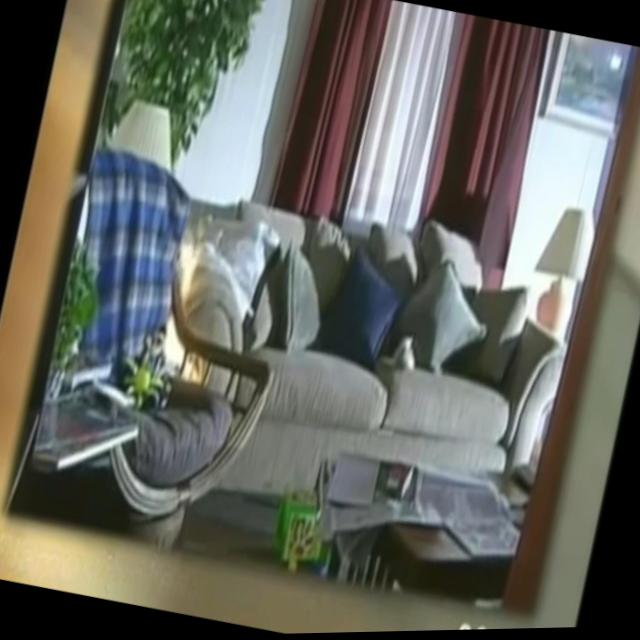fire: (152, 245, 226, 386)
